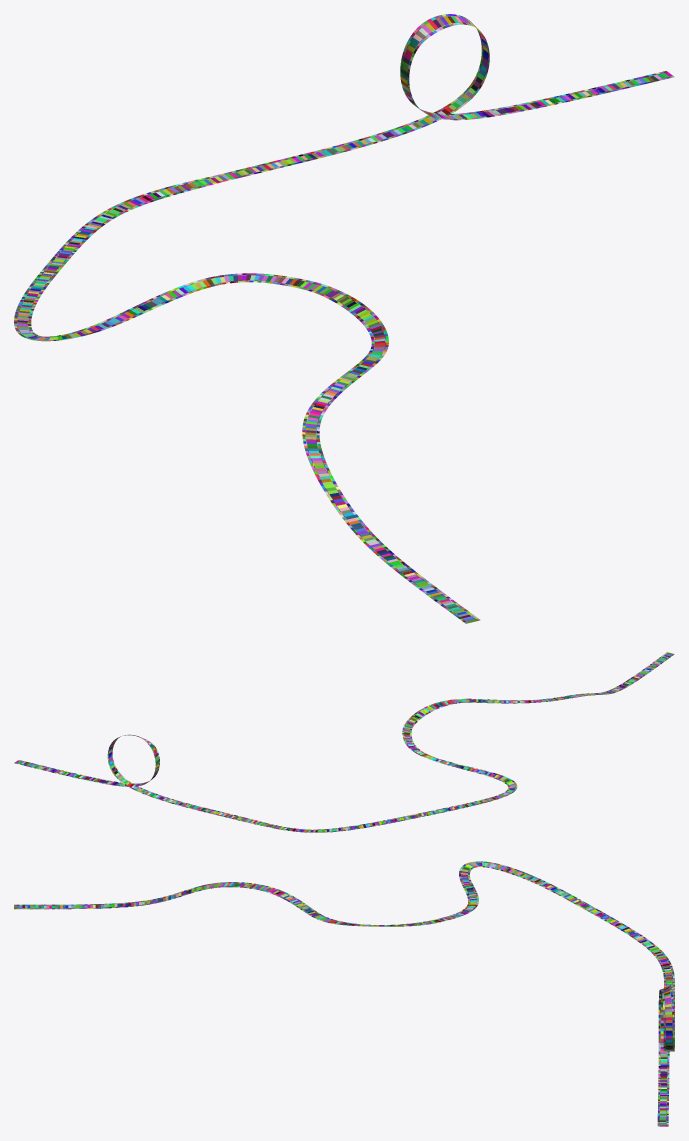
File: Track_2.fbx
The picture shows the model from 3 angles, top to bottom: view 1: azimuth 30°, elevation 25°; view 2: azimuth 150°, elevation 25°; view 3: azimuth 270°, elevation 25°; orthographic projection. The views are drawn at different scales.
Visible parts, largest first — view 1: inside, outside, curb; view 2: inside, outside, curb; view 3: inside, outside, curb.
Boxes of the visible parts, bbox=[...] form: inside: bbox=[17, 16, 672, 622]; outside: bbox=[14, 14, 674, 623]; curb: bbox=[17, 16, 672, 623]; inside: bbox=[15, 652, 672, 832]; outside: bbox=[14, 652, 674, 832]; curb: bbox=[17, 653, 672, 832]; inside: bbox=[14, 862, 672, 1126]; outside: bbox=[14, 861, 674, 1126]; curb: bbox=[14, 862, 673, 1126].
Bounding box in the file's own units: 106 × 13.87 × 121.
